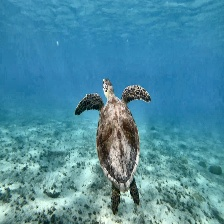seaturtle: (74, 78, 152, 215)
